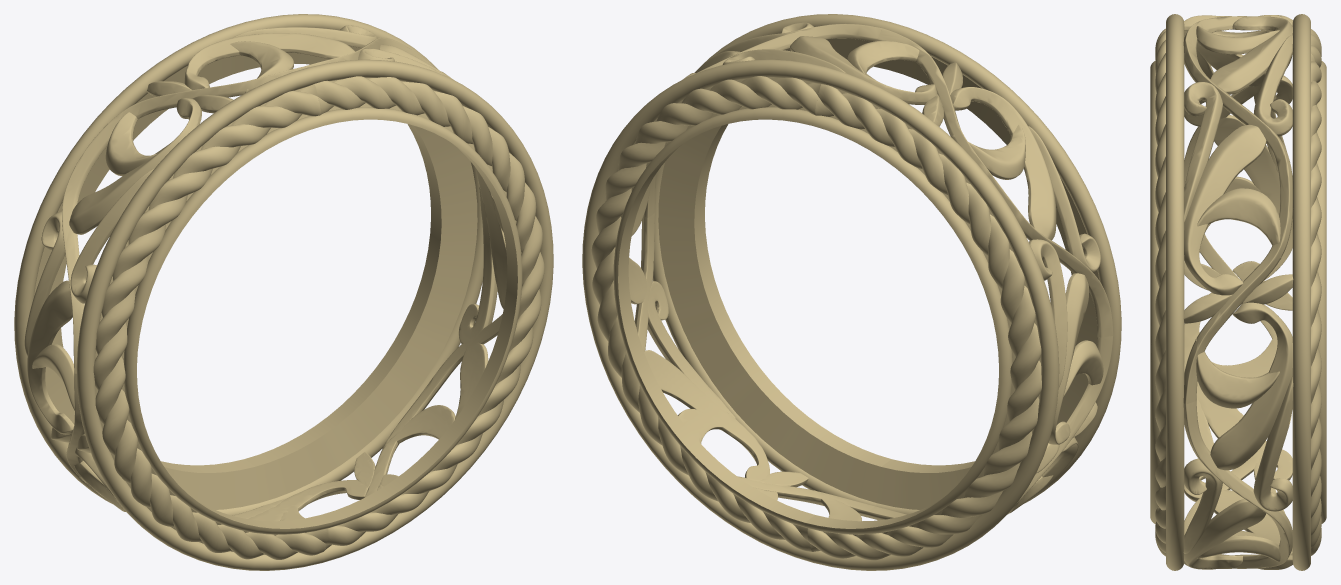
The model's file is 543_-_ring.glb.
3 renders of one model, left to right at view 1: azimuth 30°, elevation 25°; view 2: azimuth 150°, elevation 25°; view 3: azimuth 270°, elevation 25°, orthographic.
Visible parts, largest first — view 1: Plane001__0; view 2: Plane001__0; view 3: Plane001__0.
Part boxes in pixels (left/top/right/bottom): Plane001__0: left=14, top=14, right=553, bottom=570; Plane001__0: left=582, top=14, right=1121, bottom=570; Plane001__0: left=1150, top=14, right=1326, bottom=570.
Size of the model in its own units: 2.44 by 2.44 by 0.7738.
